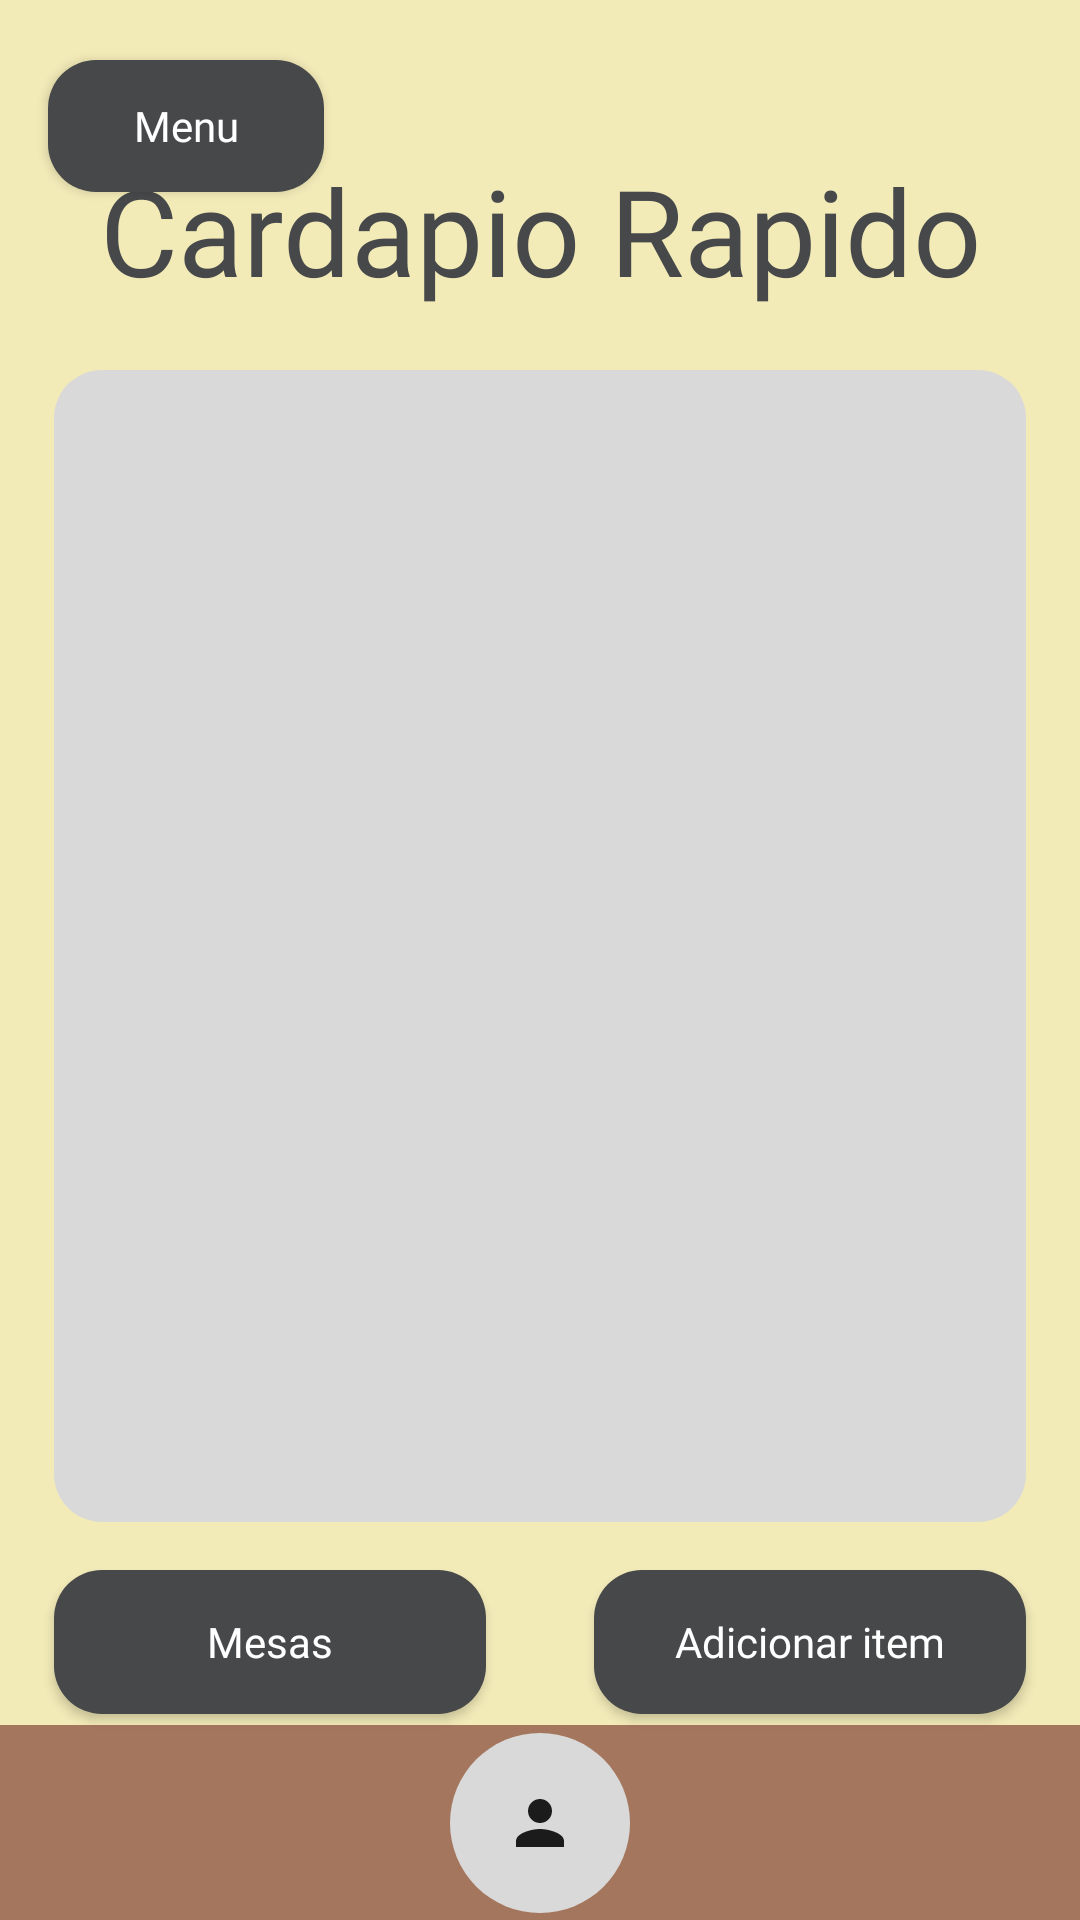

Locate icon controls on the screen. Image size 1080x1920, boxes as bbox=[x1, y1, x2, y2].
user: bbox=[450, 1733, 630, 1913]
